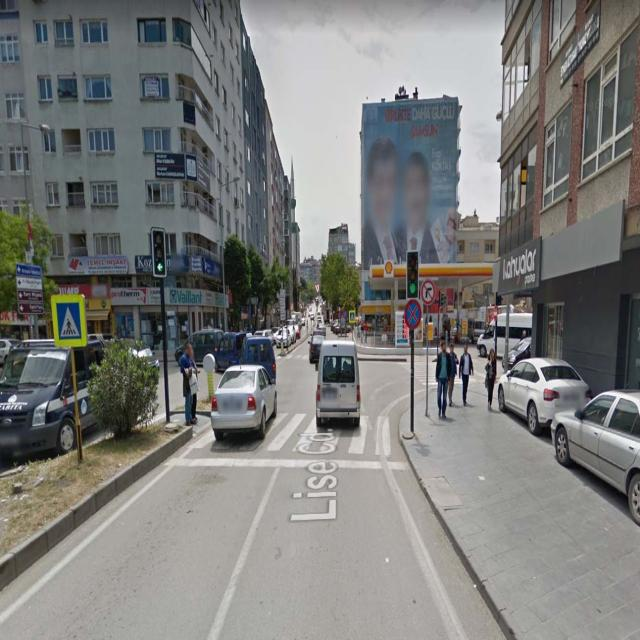sagadonulmez: (420, 280, 436, 307)
yesil: (407, 252, 419, 299)
